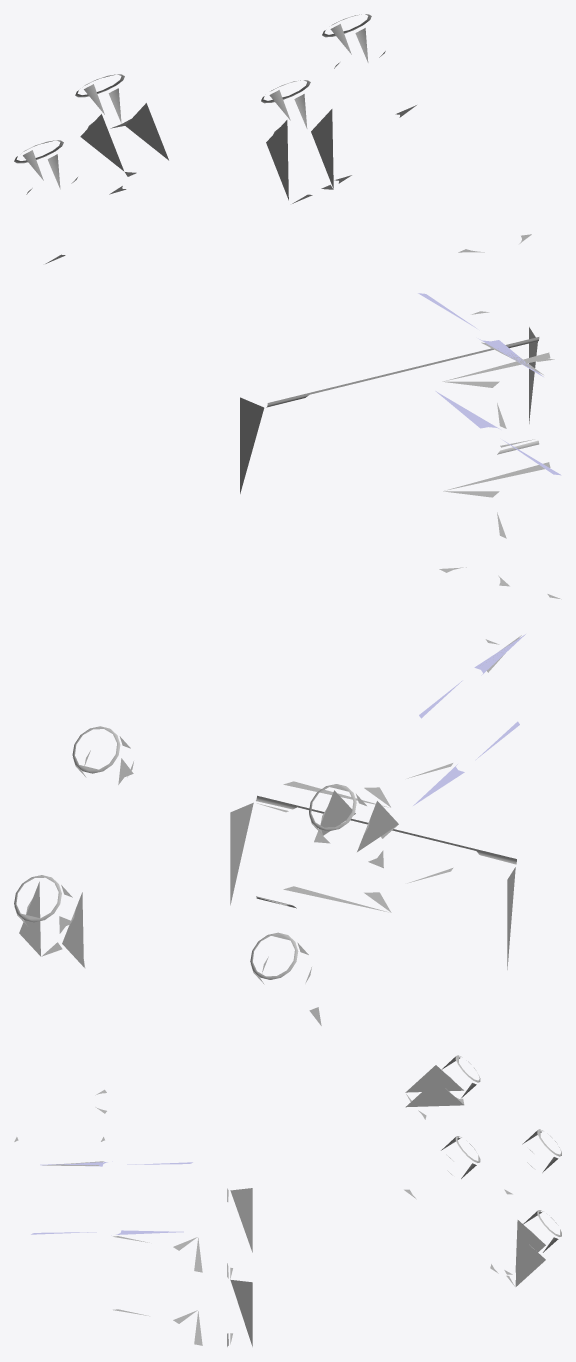
3 renders of one model, top to bottom at view 1: azimuth 30°, elevation 25°; view 2: azimuth 150°, elevation 25°; view 3: azimuth 270°, elevation 25°, orthographic. The views are drawn at different scales.
Parts seen in each view (by area): view 1: F19721000063102000154_001_zb_ub_verriegelung_54_ba (×2); view 2: F19721000063102000154_001_zb_ub_verriegelung_54_ba (×2); view 3: F19721000063102000154_001_zb_ub_verriegelung_54_ba (×2).
Boxes of the visible parts, box(x1,y1,x2,y2) form: F19721000063102000154_001_zb_ub_verriegelung_54_ba (×2): box(14, 14, 561, 538); F19721000063102000154_001_zb_ub_verriegelung_54_ba (×2): box(14, 567, 561, 1025); F19721000063102000154_001_zb_ub_verriegelung_54_ba (×2): box(14, 1055, 561, 1346).
Size of the model in its own units: 79 by 190 by 78.89.
